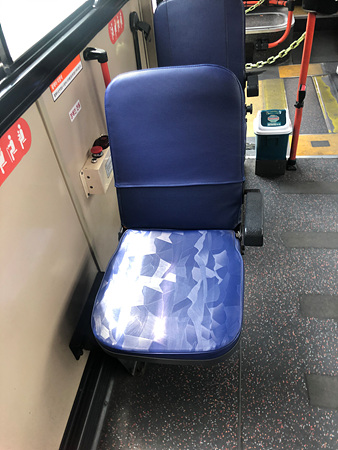seat: (86, 70, 251, 351)
